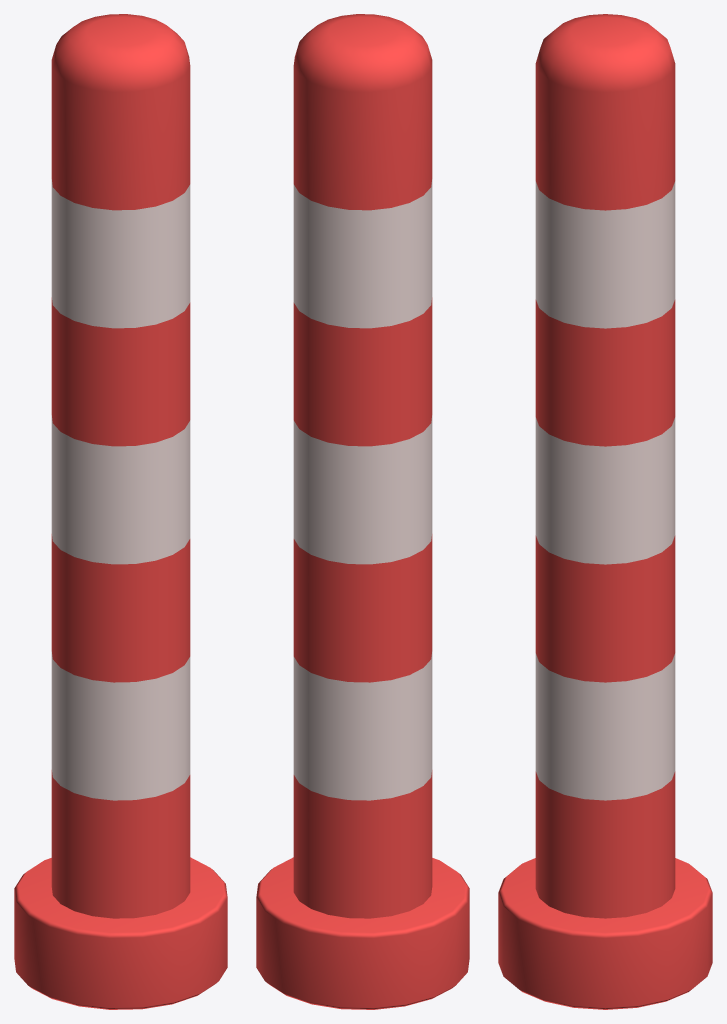
The model's file is City_14_Road_Bollard_1.glb.
3 views of the same model, side by side, from view 1: azimuth 30°, elevation 25°; view 2: azimuth 150°, elevation 25°; view 3: azimuth 270°, elevation 25° (orthographic).
Visible parts, largest first — view 1: City_14_Road_Bollard_1; view 2: City_14_Road_Bollard_1; view 3: City_14_Road_Bollard_1.
Part boxes in pixels (bbox=[...]): City_14_Road_Bollard_1: bbox=[14, 14, 227, 1009]; City_14_Road_Bollard_1: bbox=[256, 14, 469, 1009]; City_14_Road_Bollard_1: bbox=[498, 14, 712, 1009].
Bounding box in the file's own units: 0.2195 × 1.06 × 0.2195.
1 material, 1 textured.
